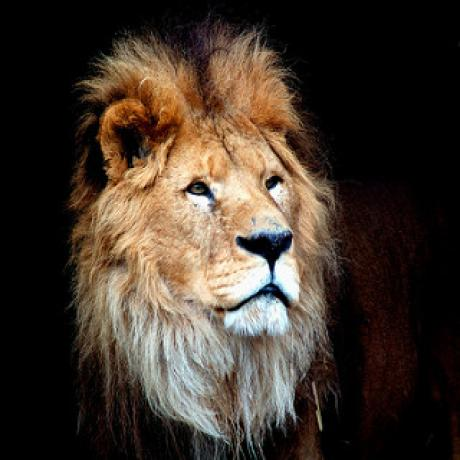Lion: (65, 20, 342, 460)
